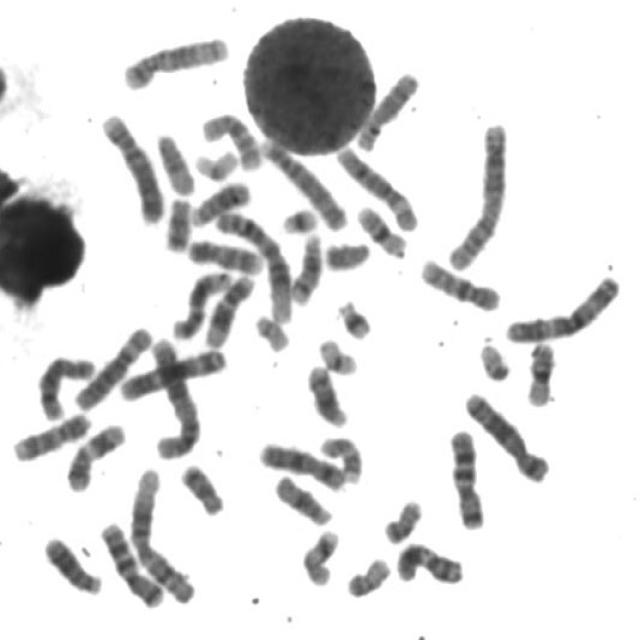A1: (126, 461, 198, 605), (210, 204, 295, 325)
A2: (442, 115, 512, 273), (142, 332, 202, 462)
A3: (500, 268, 624, 344), (116, 342, 229, 403)
B4: (255, 132, 351, 233), (96, 106, 168, 227)
B5: (459, 385, 553, 484), (119, 30, 232, 92)
C10: (414, 251, 504, 313), (198, 105, 266, 173)
C11: (63, 417, 128, 494), (392, 538, 476, 588)
C12: (168, 264, 236, 342), (200, 268, 258, 350)
C6: (332, 141, 422, 233), (71, 320, 156, 412)
C7: (96, 516, 168, 610), (444, 422, 488, 532)
C8: (351, 66, 423, 152), (34, 350, 98, 421)
C9: (7, 406, 95, 463), (181, 233, 266, 276)
D13: (39, 530, 104, 596), (186, 175, 254, 228)
D14: (302, 358, 351, 429), (286, 226, 326, 306)
D15: (270, 468, 336, 528), (151, 127, 198, 197)
E16: (352, 197, 411, 260), (520, 336, 560, 408)
E17: (297, 524, 343, 588), (315, 430, 366, 485)
E18: (176, 458, 228, 517), (160, 191, 194, 253)
F19: (314, 332, 361, 378), (189, 143, 241, 183)
F20: (343, 550, 393, 600), (379, 492, 425, 546)
G21: (333, 293, 375, 342), (277, 201, 321, 235)
G22: (250, 308, 292, 354), (475, 335, 514, 383)
X: (254, 435, 349, 493)
Y: (319, 229, 380, 280)
